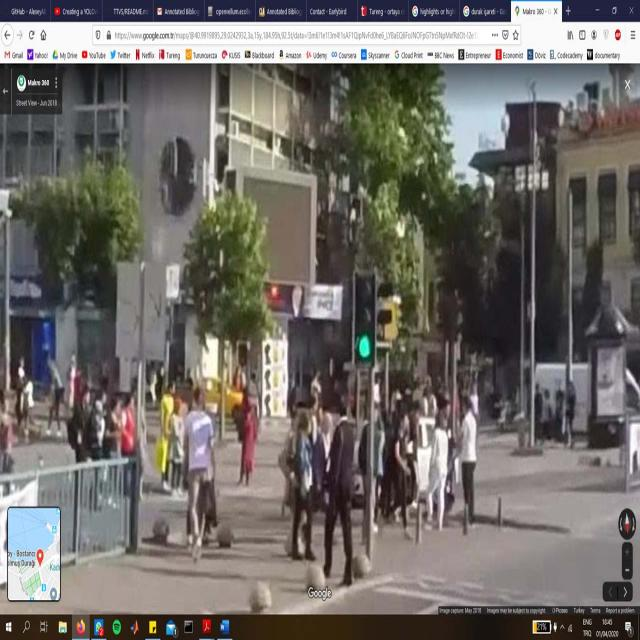yesil: (354, 273, 373, 366)
